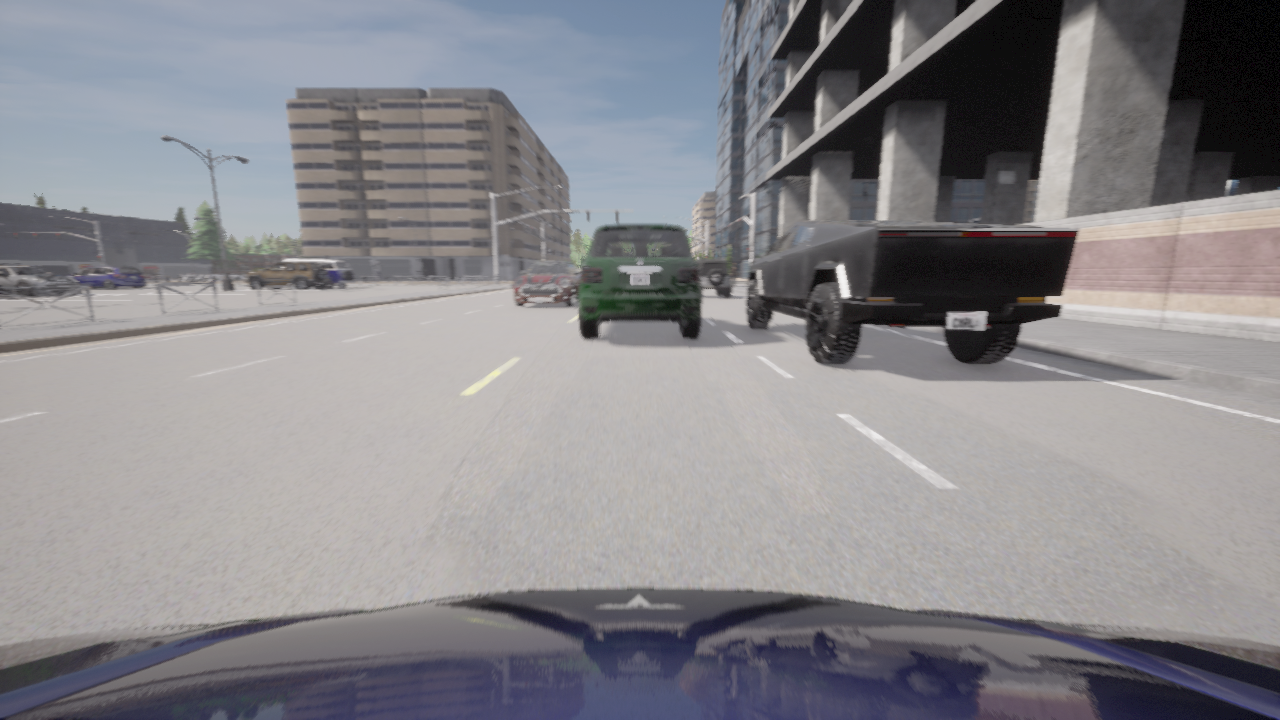cyclist: (0, 588, 1279, 719), (745, 221, 1079, 364), (578, 224, 701, 338), (513, 261, 580, 306), (244, 261, 331, 289), (0, 266, 81, 296), (283, 259, 355, 288), (65, 266, 146, 288), (697, 259, 731, 297)
pedestrian: (731, 263, 737, 286)
